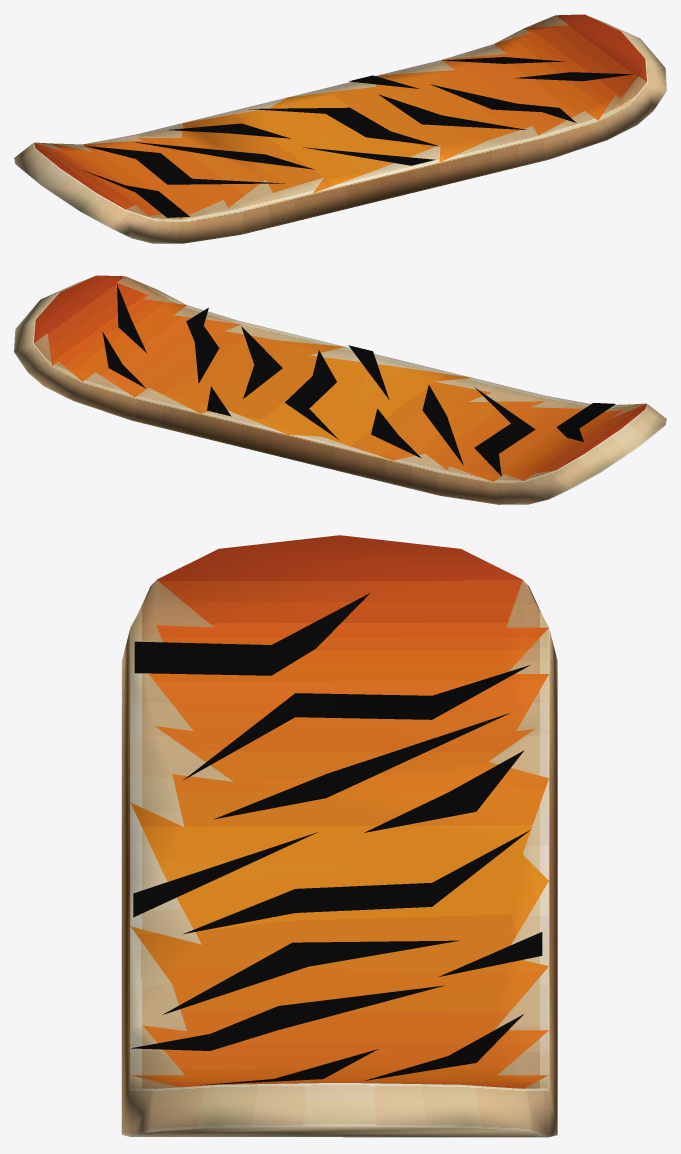
File: BengalBoard.glb
3 views of the same model, one above another, from view 1: azimuth 30°, elevation 25°; view 2: azimuth 150°, elevation 25°; view 3: azimuth 270°, elevation 25° (orthographic). The views are drawn at different scales.
Visible parts, largest first — view 1: BengalBoard; view 2: BengalBoard; view 3: BengalBoard.
Boxes of the visible parts, box(x1,y1,x2,y2) form: BengalBoard: box(14, 14, 666, 243); BengalBoard: box(14, 275, 666, 504); BengalBoard: box(121, 535, 557, 1137).
Bounding box in the file's own units: 8.77 × 0.8121 × 2.78.
1 material, 1 textured.
